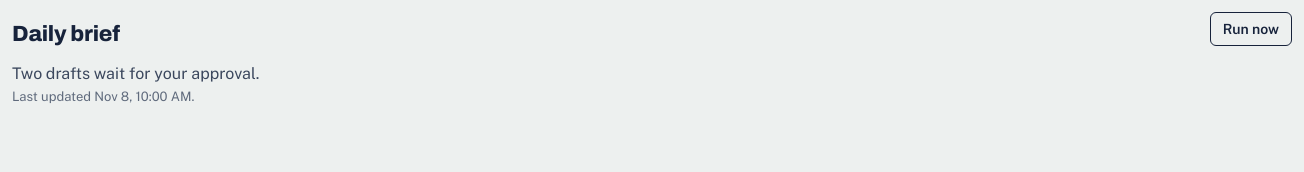
Test: BriefRunButton › keeps the last brief while running and blocks duplicate requests
Later steps or results of the test are not shown.
Double-click the button "Run now" at point(1251, 29), box [1210,12,1292,46]
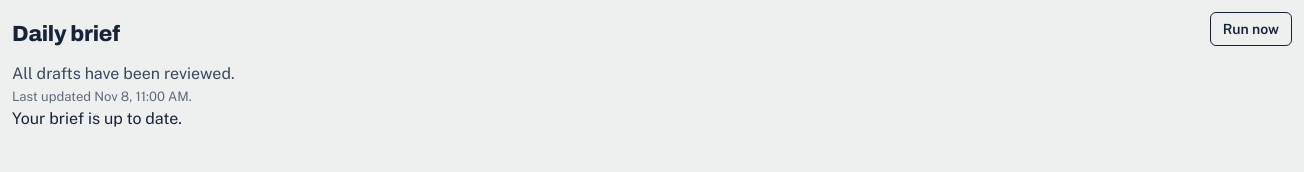
Check: the text "All drafts have been reviewed." is shown, box [12,64,234,83]
Check: the message reads "Your brief is up to date.", box [12,109,182,128]
